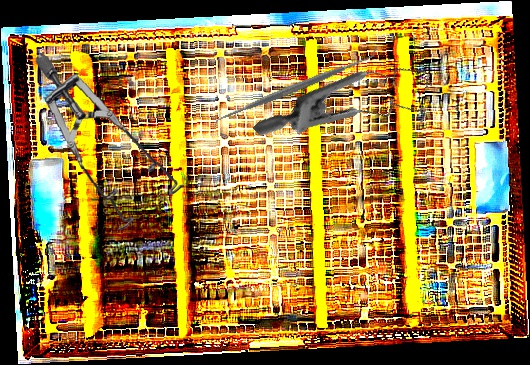Spatula Surgical: (207, 43, 385, 131)
Speculum: (252, 14, 450, 210), (33, 43, 189, 236)
